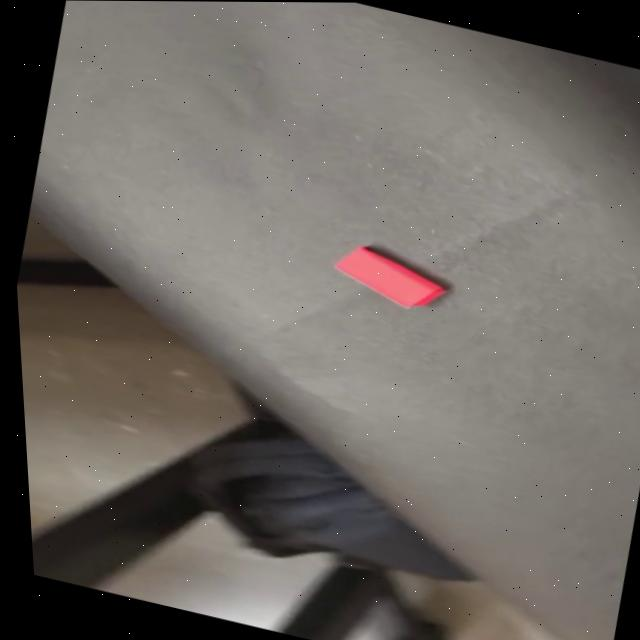red block: (327, 240, 456, 318)
